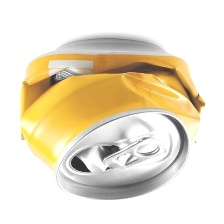can: (15, 32, 210, 206)
